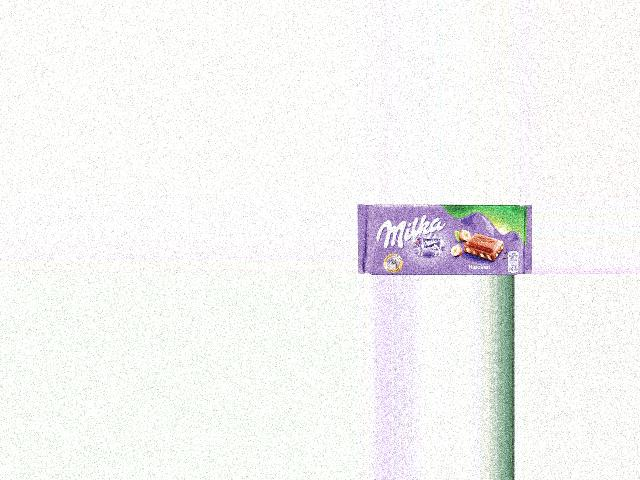chocolate: (357, 204, 532, 275)
